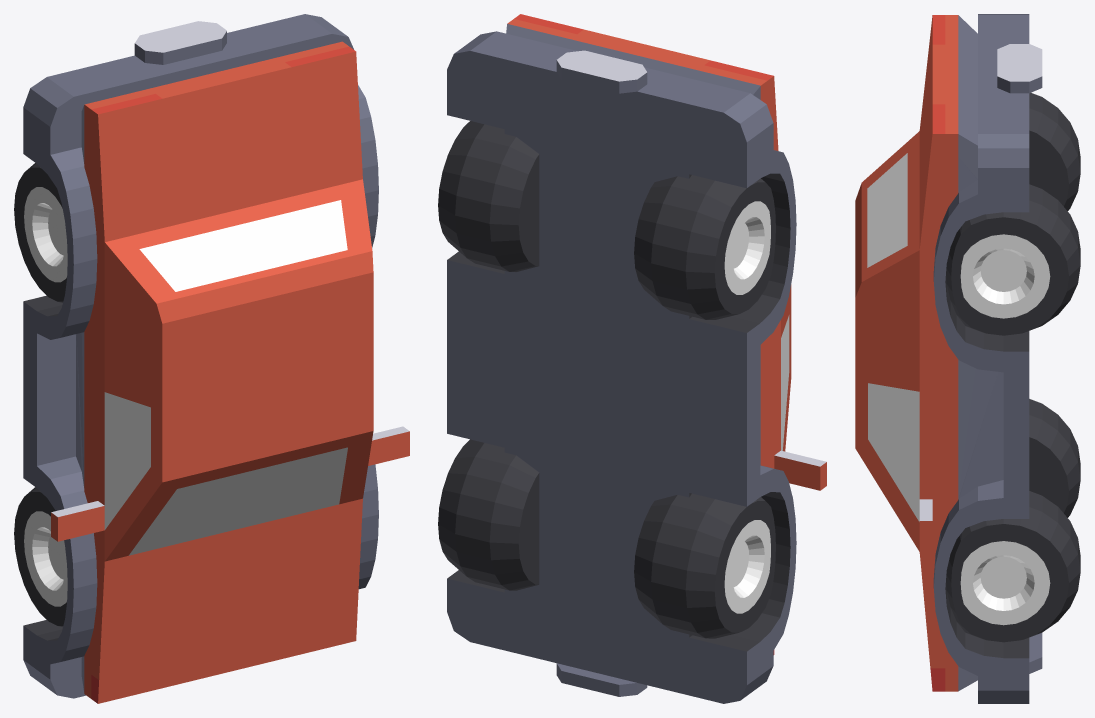
Rendered from car.obj.
3 renders of one model, left to right at view 1: azimuth 30°, elevation 25°; view 2: azimuth 150°, elevation 25°; view 3: azimuth 270°, elevation 25°, orthographic. The views are drawn at different scales.
Size of the model in its own units: 2.59 by 4.4 by 1.52.
